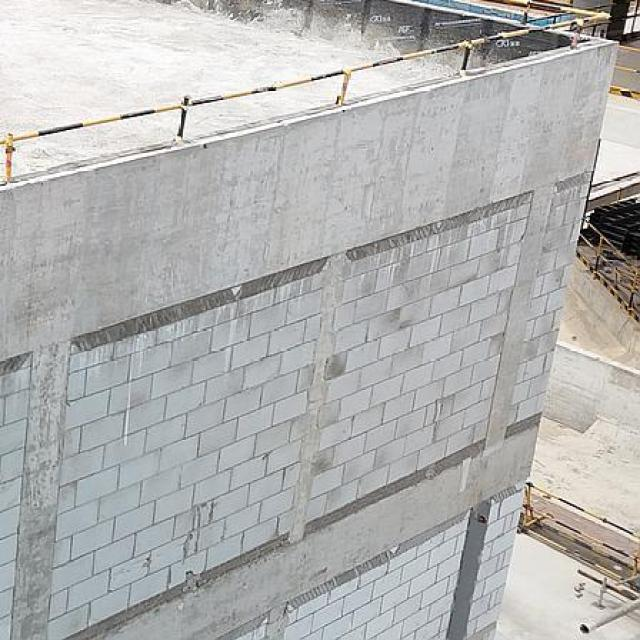Guardrail: (0, 0, 614, 185), (520, 481, 640, 583), (575, 217, 640, 319), (526, 2, 615, 38), (608, 45, 640, 95), (623, 0, 640, 34)
